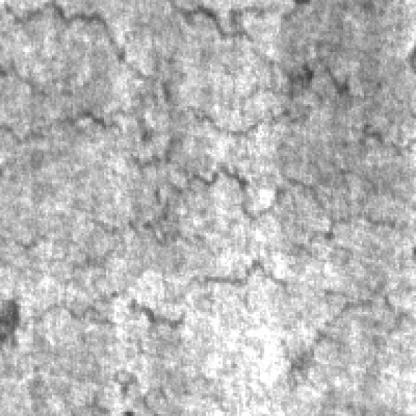crazing: (33, 243, 414, 395), (2, 0, 324, 137), (158, 106, 414, 248)
